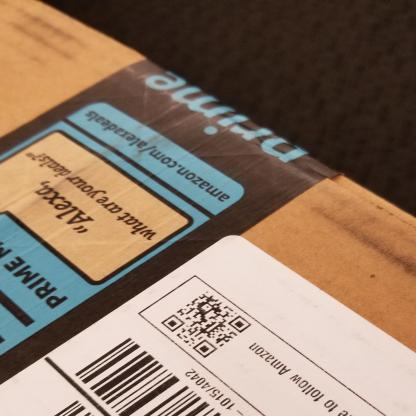barcode: (69, 336, 232, 416), (48, 398, 100, 416)
qr: (157, 290, 258, 365)
